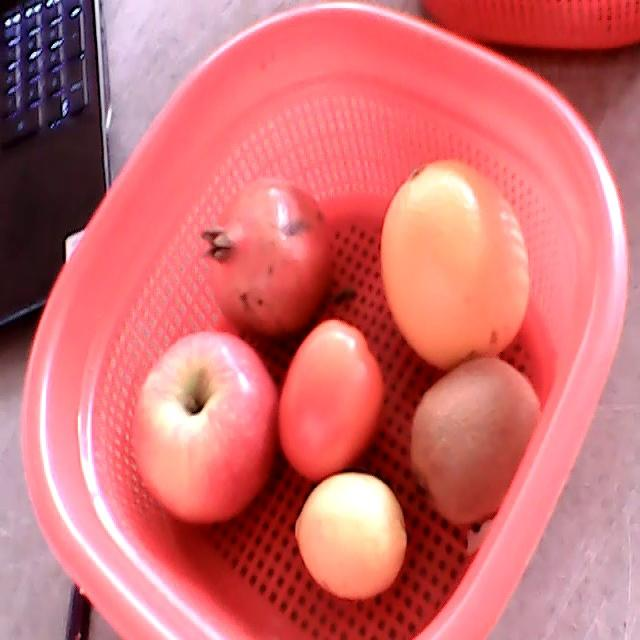apple: (131, 329, 278, 528), (408, 350, 539, 526)
lemon: (295, 473, 408, 600)
orange: (379, 159, 532, 371)
pomegranate: (203, 175, 329, 337)
tomato: (279, 319, 385, 483)
